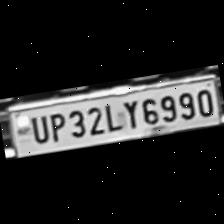0: (192, 84, 216, 118)
2: (82, 100, 106, 136)
3: (63, 104, 87, 138)
6: (136, 92, 160, 126)
9: (172, 86, 196, 121), (154, 90, 178, 123)
L: (100, 97, 124, 132)
P: (44, 107, 68, 143)
U: (25, 111, 50, 145)
Y: (119, 95, 142, 129)
